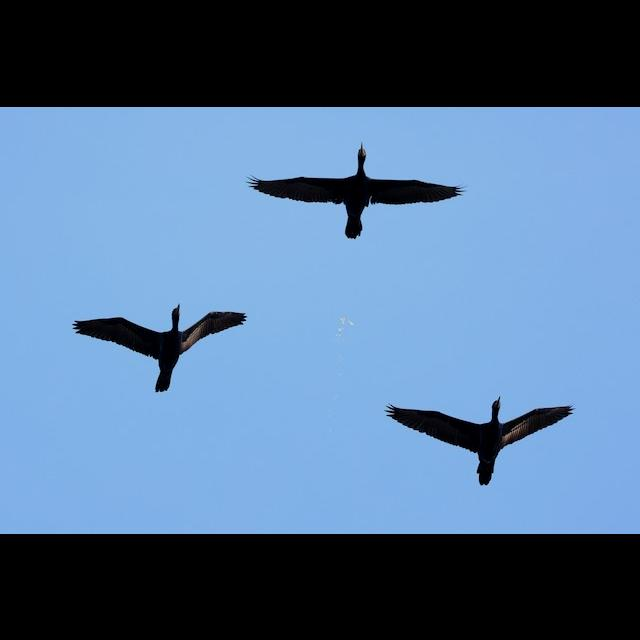cormorant: (241, 138, 471, 245), (380, 388, 582, 488), (67, 296, 253, 402)
